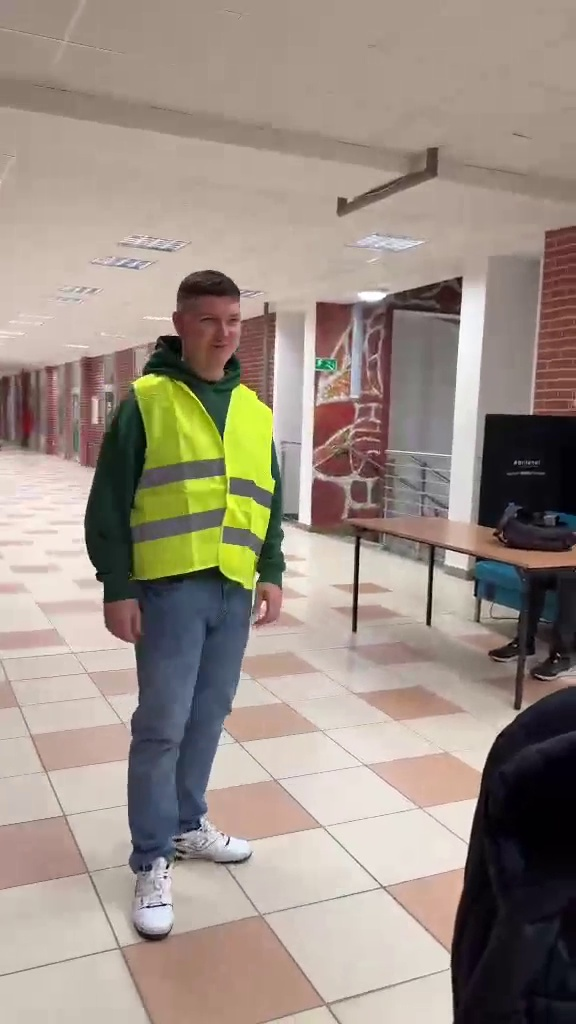vest: (85, 267, 313, 951)
